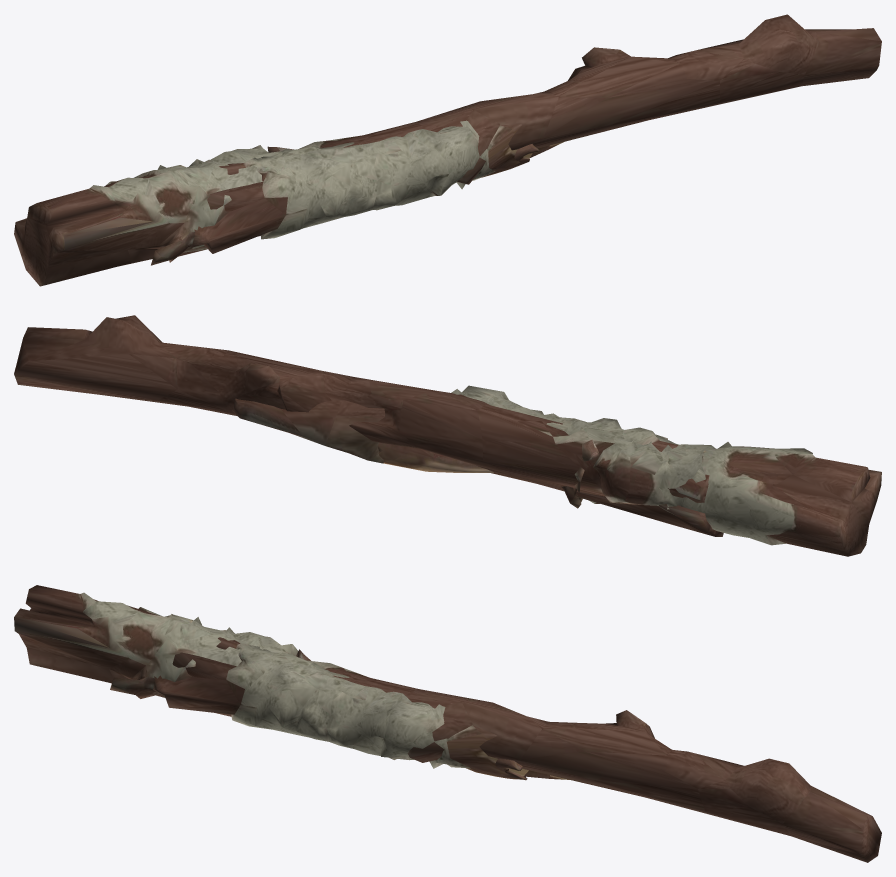
The model's file is dallar.glb.
3 renders of one model, top to bottom at view 1: azimuth 30°, elevation 25°; view 2: azimuth 150°, elevation 25°; view 3: azimuth 330°, elevation 25°, orthographic. The views are drawn at different scales.
Visible parts, largest first — view 1: uzun, likenli; view 2: uzun, likenli, ince; view 3: uzun, likenli.
Boxes of the visible parts, <box> form: uzun: <box>14,14,881,286</box>; likenli: <box>178,120,563,256</box>; uzun: <box>14,315,881,556</box>; likenli: <box>232,385,723,536</box>; ince: <box>378,443,493,472</box>; uzun: <box>14,585,881,862</box>; likenli: <box>153,637,569,779</box>.
Size of the model in its own units: 1.89 by 0.2148 by 0.2251.
Materials: 1 (1 with a texture image).
